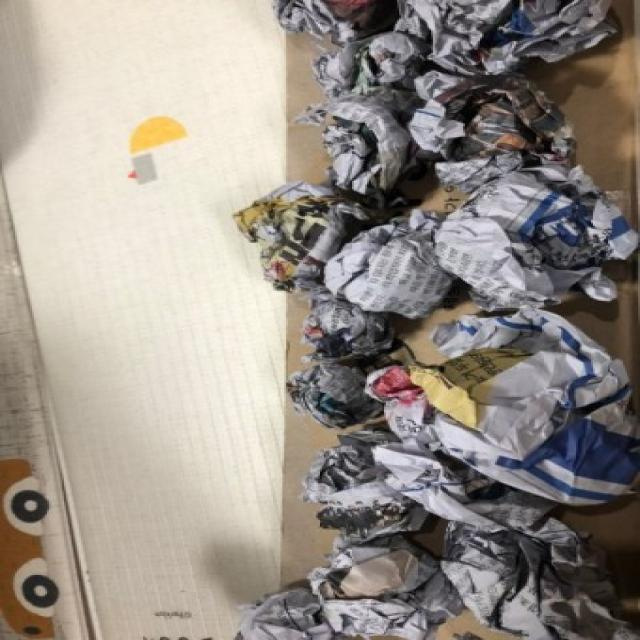Newspaper: (291, 0, 640, 640)
